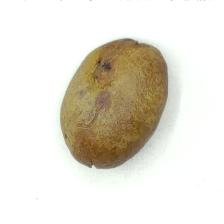NG: (88, 55, 120, 80)
